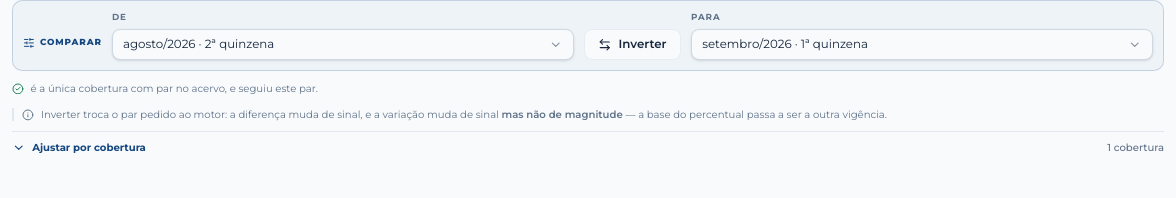
Test: o que cada data produz, escrito ao lado dela › com a pergunta falhada, as datas continuam escolhíveis e a frase aparece
This screenshot has width=1176, height=198.
Step 1. Click the dropdown named "vigência de origem, para todas" → [199, 44], box [112,29,574,60]
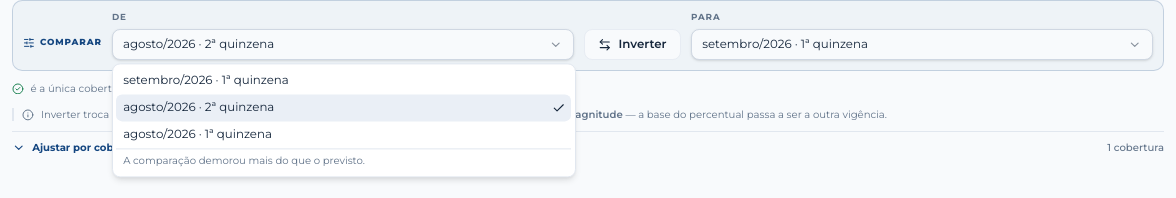
Expected: the number of options is 3, [123,74,289,88]; [116,95,571,122]; [123,128,272,142]
Expected: the text "A comparação demorou mais do que o previsto." is shown, [116,149,571,173]
